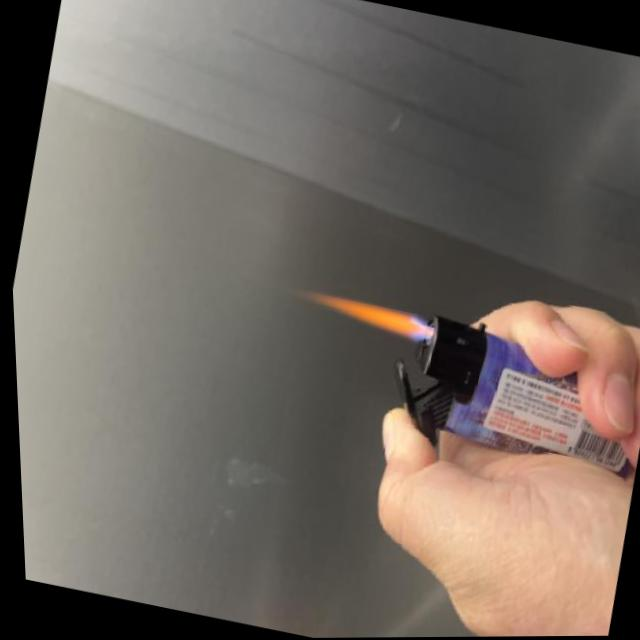Fire: (295, 285, 430, 345)
